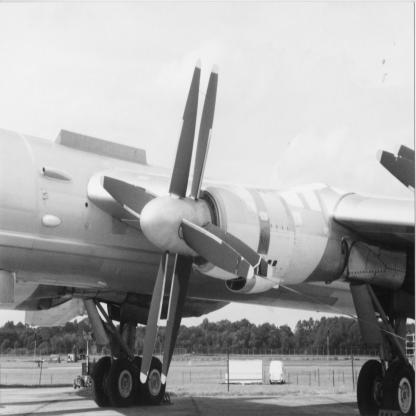Tu95: (1, 59, 416, 416)
